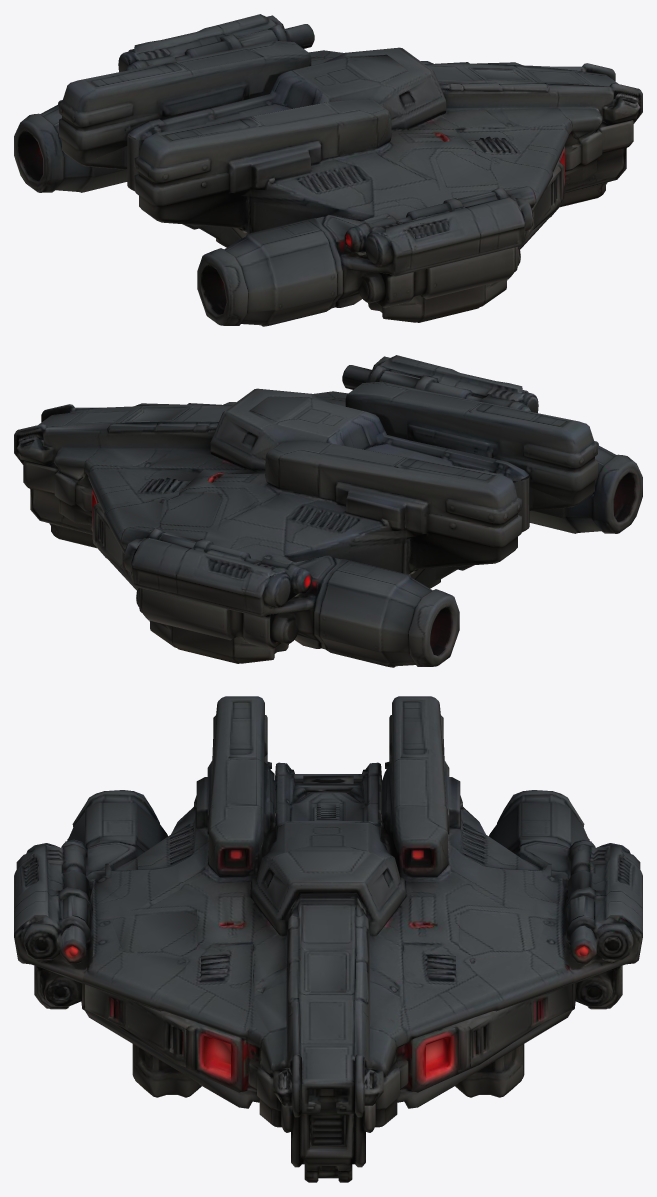
Rendered from gunship.glb.
The picture shows the model from 3 angles, top to bottom: view 1: azimuth 30°, elevation 25°; view 2: azimuth 150°, elevation 25°; view 3: azimuth 270°, elevation 25°; orthographic projection. The views are drawn at different scales.
Parts seen in each view (by area): view 1: tripo_node_384ee9c3-0532-41de-8ea3-beb384f88277; view 2: tripo_node_384ee9c3-0532-41de-8ea3-beb384f88277; view 3: tripo_node_384ee9c3-0532-41de-8ea3-beb384f88277.
Part boxes in pixels (bbox=[...]): tripo_node_384ee9c3-0532-41de-8ea3-beb384f88277: bbox=[14, 14, 642, 326]; tripo_node_384ee9c3-0532-41de-8ea3-beb384f88277: bbox=[14, 355, 642, 667]; tripo_node_384ee9c3-0532-41de-8ea3-beb384f88277: bbox=[14, 696, 642, 1182].
Size of the model in its own units: 0.978 by 0.3689 by 0.8858.
Materials: 1 (1 with a texture image).
